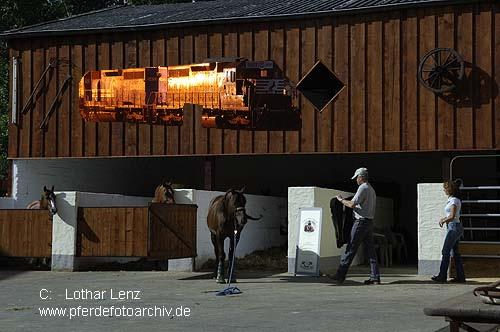tampered: (80, 61, 302, 131)
